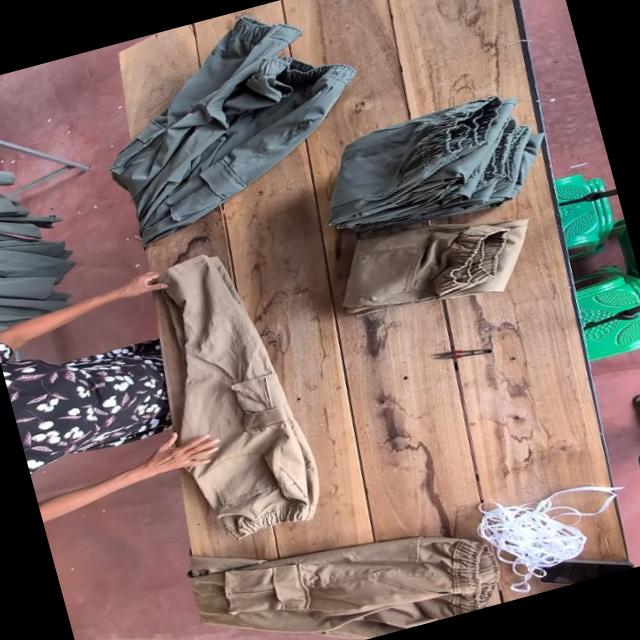new-garment: (161, 254, 318, 538)
